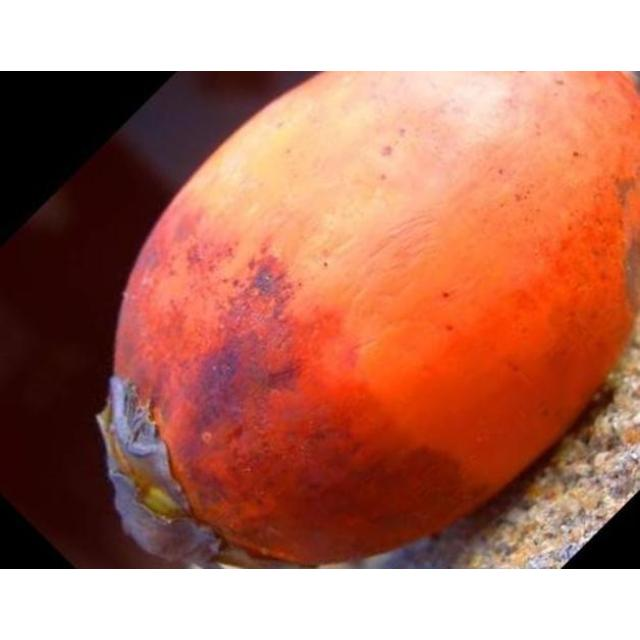good: (95, 71, 639, 568)
